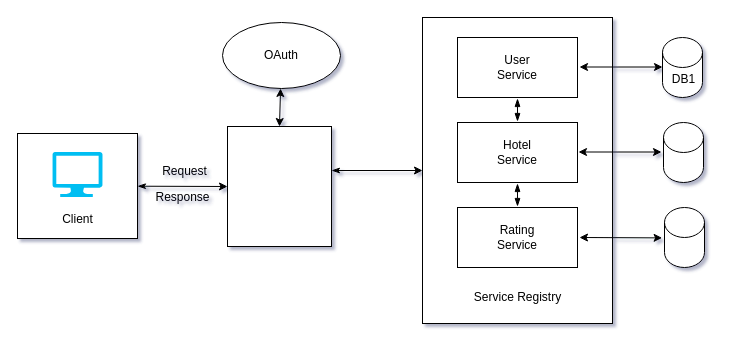
This 734x347 diagram has some shape labels left out. Here are the shapes that lost their labels. From the top down, the centre of each, then its label:
the point at 683,152: DB2
the point at 279,186: API Gateway
the point at 684,237: DB3
